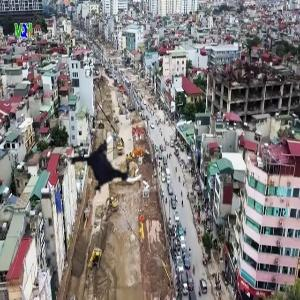drone: (65, 122, 149, 206)
